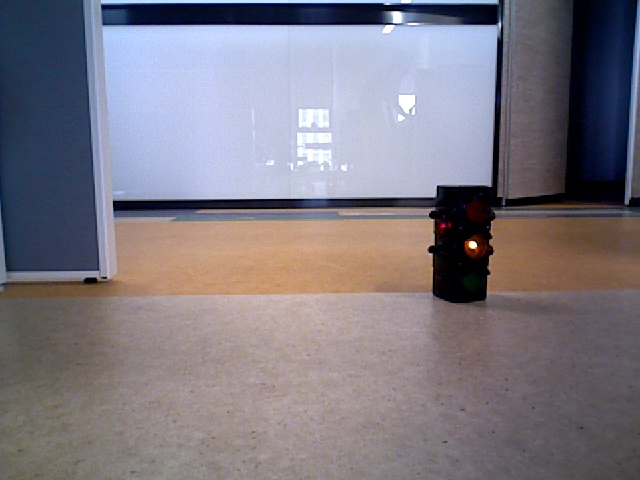yellow: (436, 187, 483, 297)
